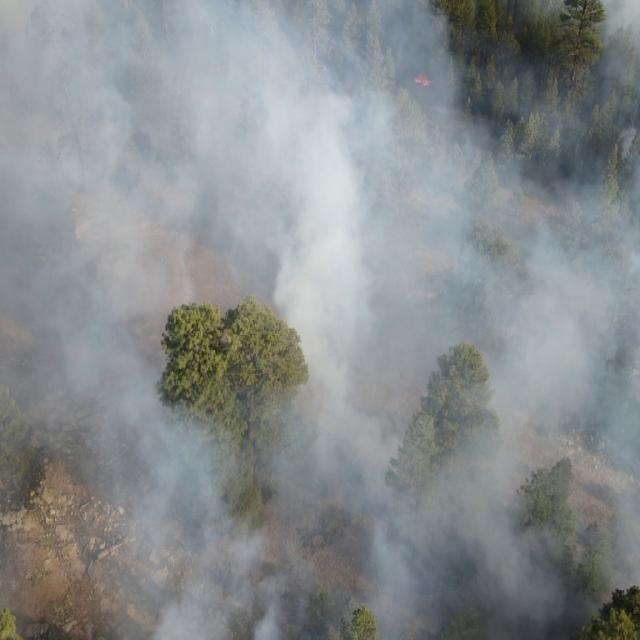fire: (413, 72, 434, 88)
smoke: (0, 0, 640, 640)
